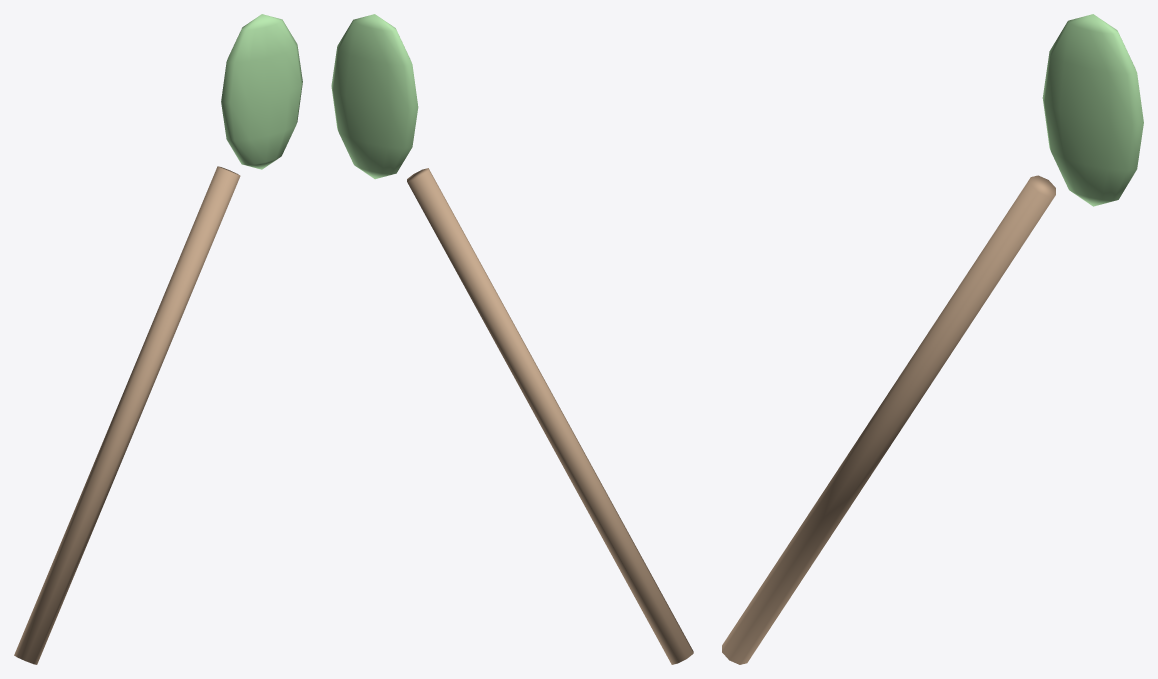
File: wand_leaf.glb
The picture shows the model from 3 angles, left to right: view 1: azimuth 30°, elevation 25°; view 2: azimuth 150°, elevation 25°; view 3: azimuth 330°, elevation 25°; orthographic projection. The views are drawn at different scales.
Parts seen in each view (by area): view 1: wand_leaf; view 2: wand_leaf; view 3: wand_leaf.
Boxes of the visible parts, bbox=[...] form: wand_leaf: bbox=[14, 14, 302, 664]; wand_leaf: bbox=[331, 14, 693, 664]; wand_leaf: bbox=[722, 14, 1143, 664].
Bounding box in the file's own units: 0.2316 × 0.4011 × 0.0521.
